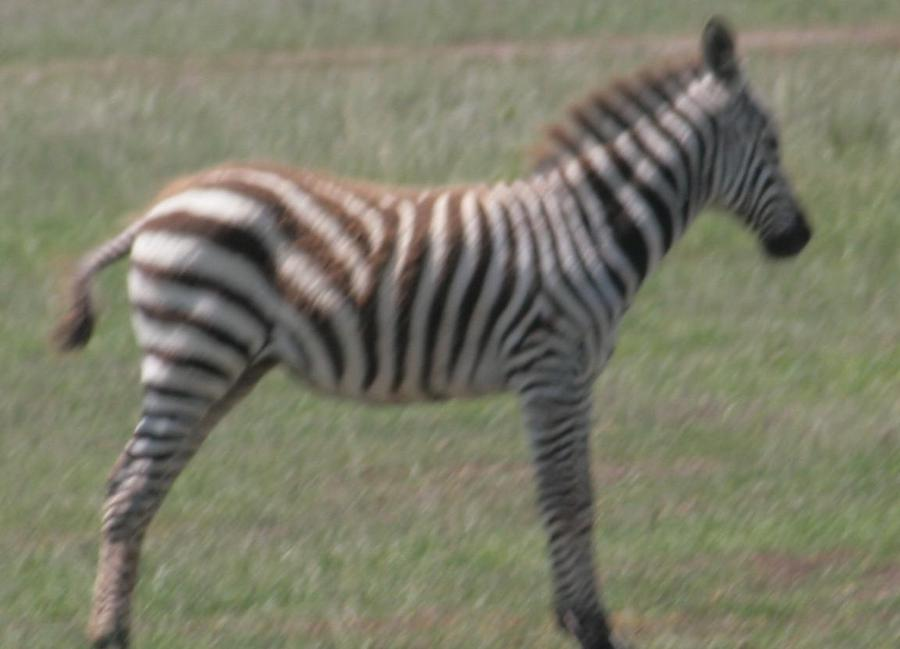zebra_plains: (111, 101, 651, 455)
